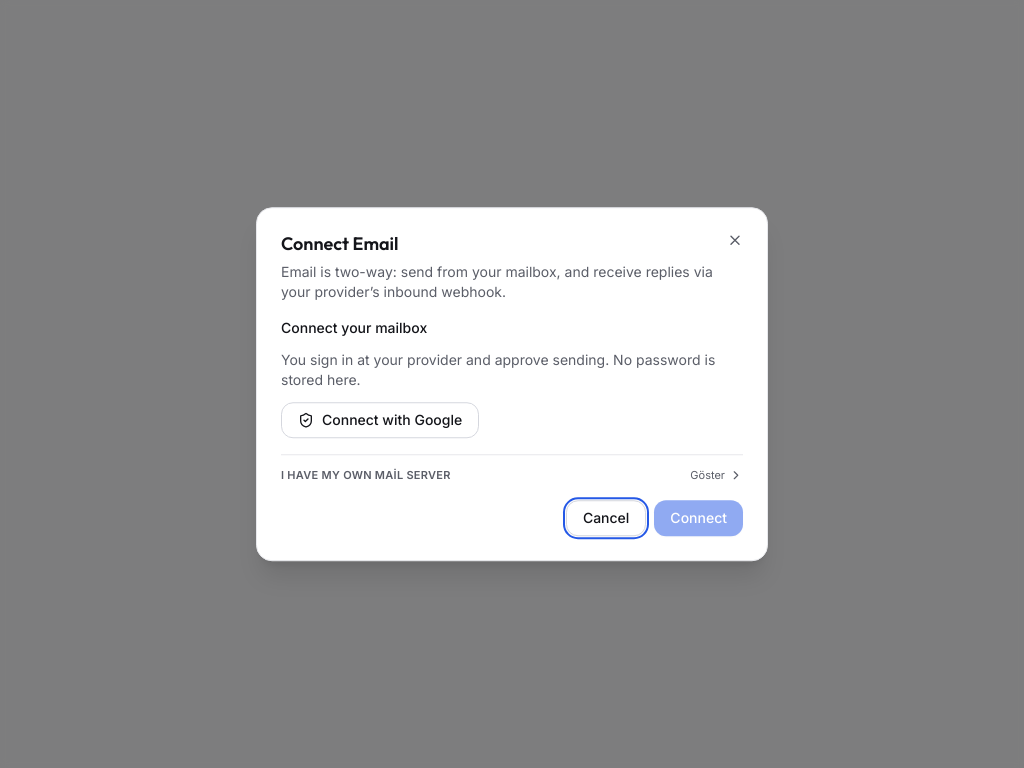
Scenario: EmailChannelDialog — consent first, password as the fallback › custom SMTP › offers the passwordless path when the address turns out to be a Google one
Click the text "I have my own mail server".
click(366, 476)  # box [281, 467, 451, 484]
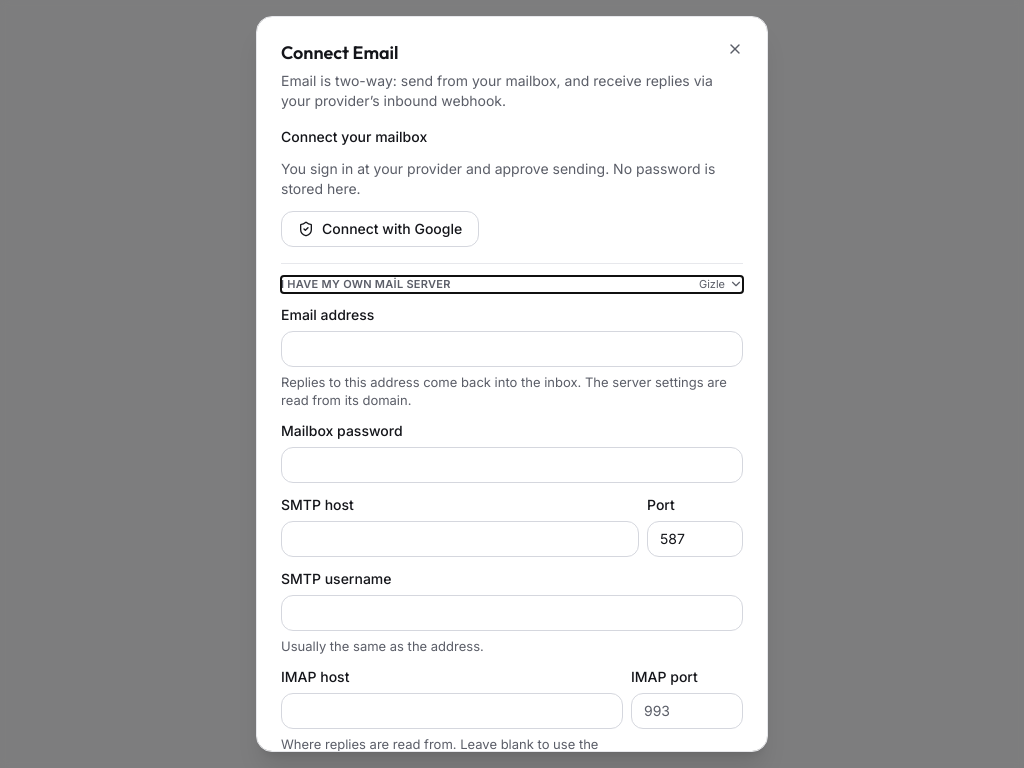
Type "someone@gmail.com" into the field labelled "Email address".
click(512, 348); type("someone@gmail.com")  # box [281, 330, 743, 366]
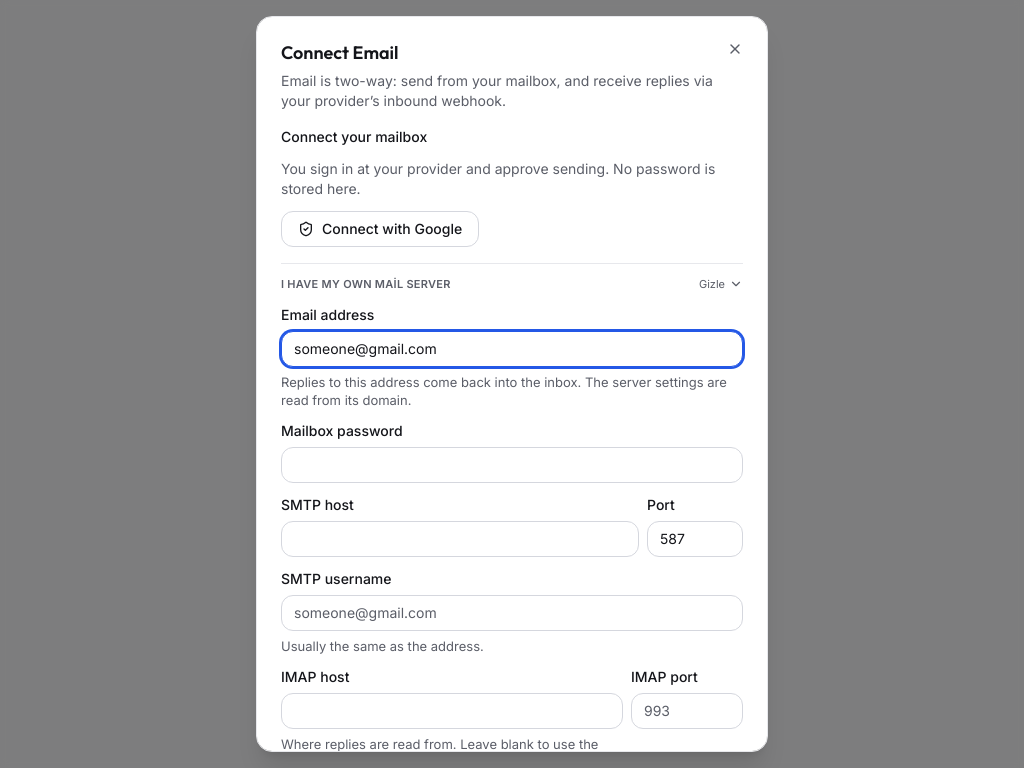
Press Tab
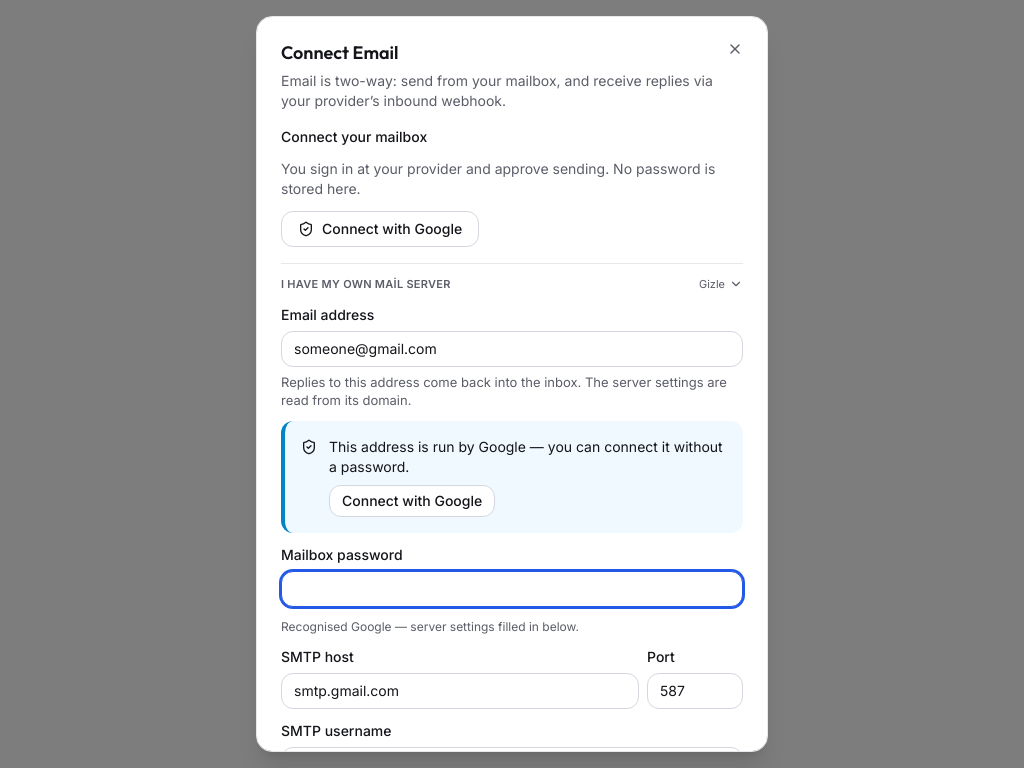
Result: the text "run by Google — you can connect it without a password" is shown at [329, 438, 723, 474]
